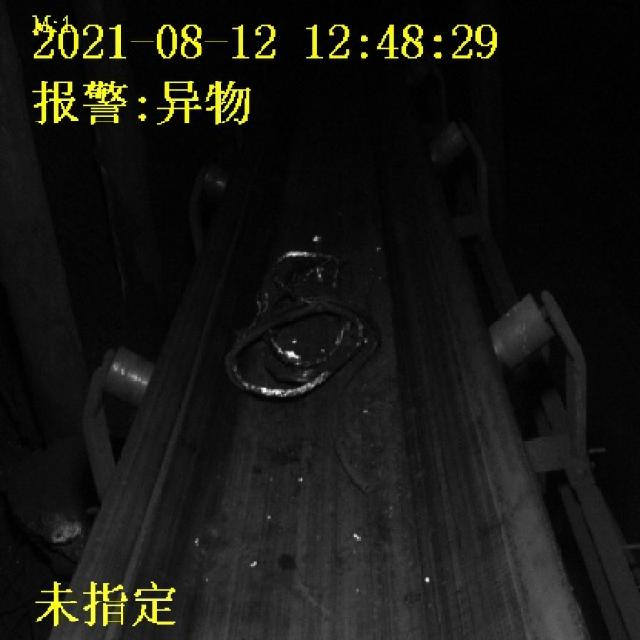bolt: (214, 242, 381, 489)
